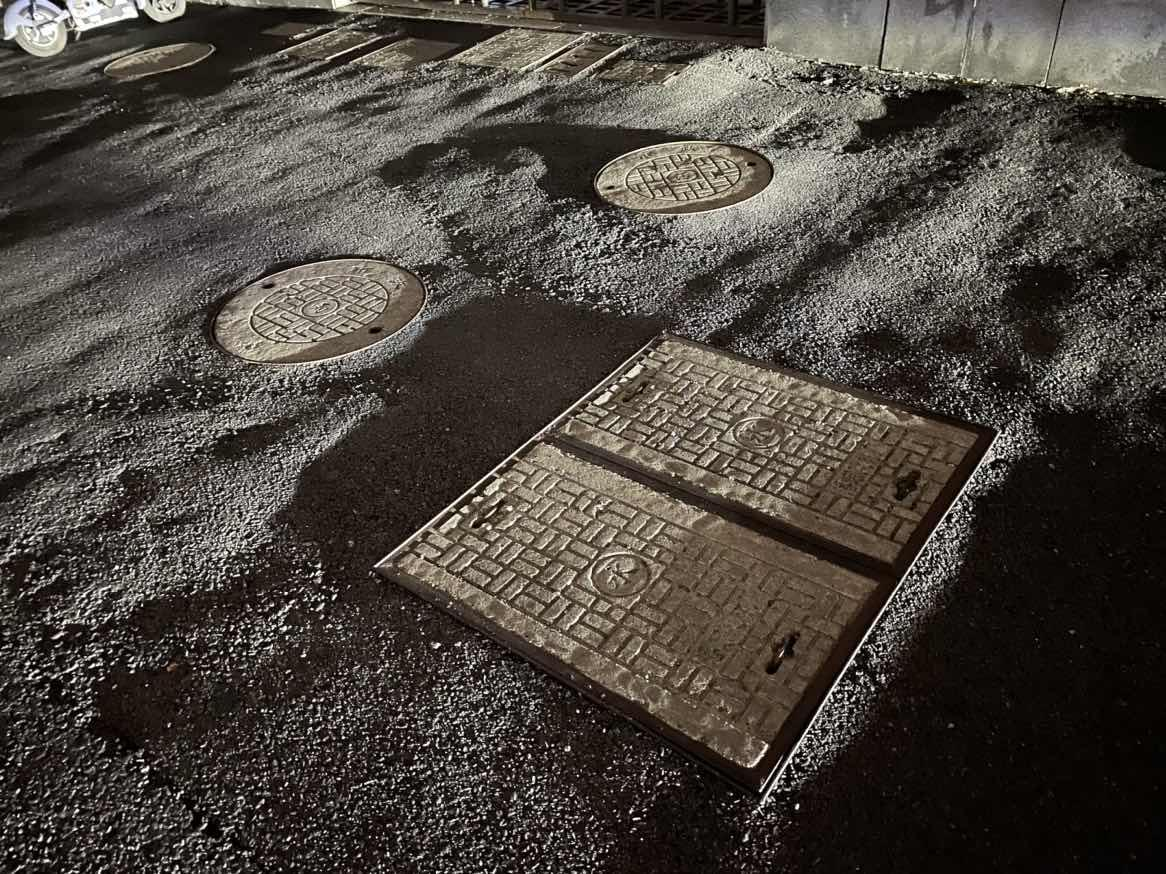wellcover: (373, 322, 1005, 814), (210, 249, 425, 368), (570, 113, 788, 207)
